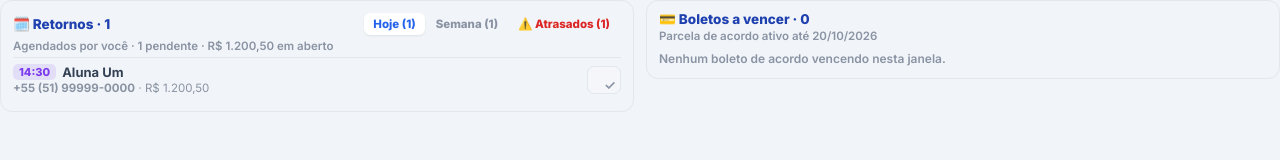
Test: PainelMeuDia: aba Atrasados › abre em Hoje mesmo havendo atraso, e o atrasado aparece so na aba dele
The width and height of the screenshot is (1280, 160).
Expected: the button "Aluna Um" is shown, [62,64,124,80]
Expected: the text "Aluna Atrasada" is not shown
Click the tab with test id "meu-dia-aba-atrasados": (564, 24) [509,13,619,35]
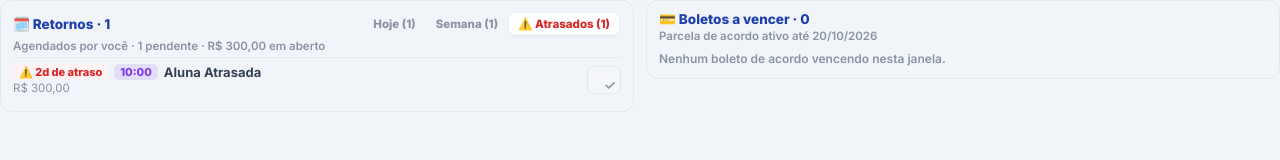
Expected: the button "Aluna Atrasada" is shown, [164,64,261,80]
Expected: the button "Aluna Um" is gone
Expected: the text with test id "meu-dia-retorno-atraso" shows "2d de atraso", [13,64,108,80]
